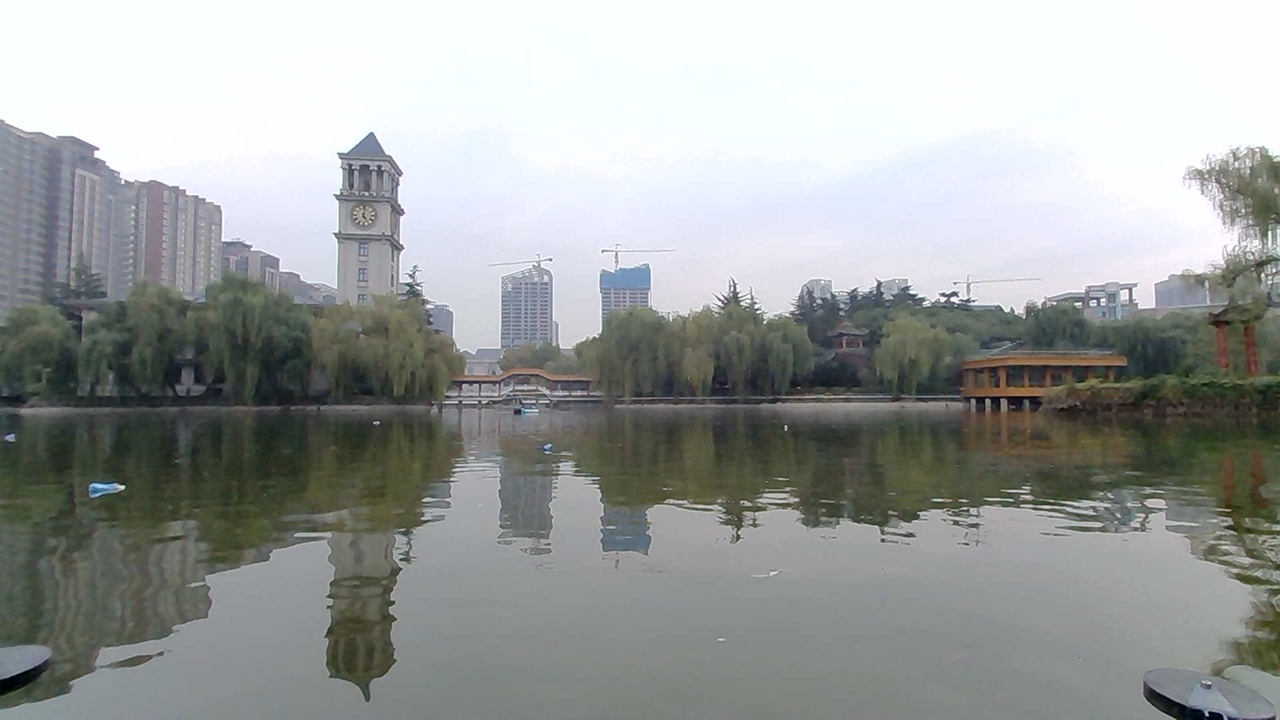bottle: (545, 427, 579, 454), (776, 411, 806, 437), (86, 478, 123, 499), (363, 410, 392, 432)
